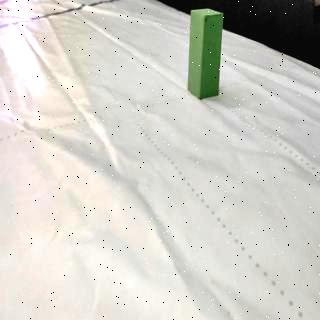greenbox: (188, 9, 224, 100)
